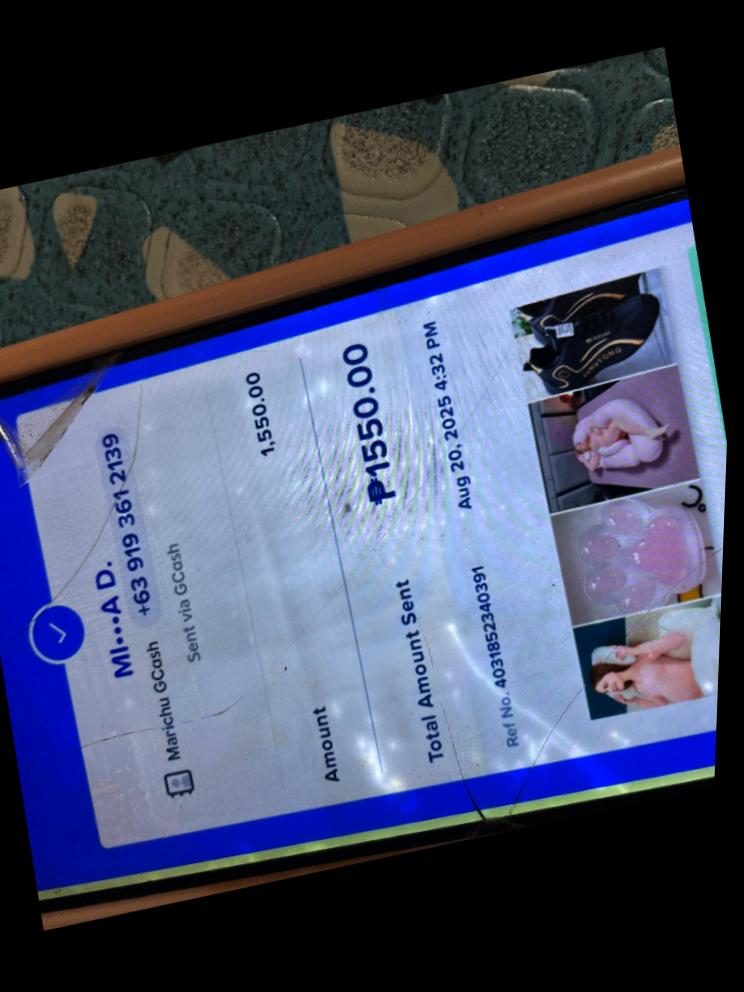Receipt: (0, 199, 727, 887)
